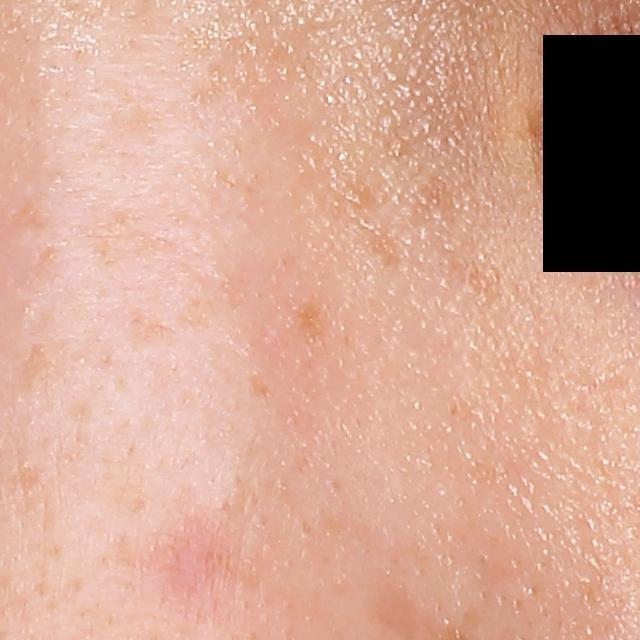melasma: (78, 193, 186, 267), (173, 272, 255, 334), (446, 251, 510, 298), (10, 338, 56, 400), (123, 301, 173, 347), (8, 197, 61, 238), (367, 227, 405, 269), (296, 297, 332, 339), (247, 372, 275, 402)
